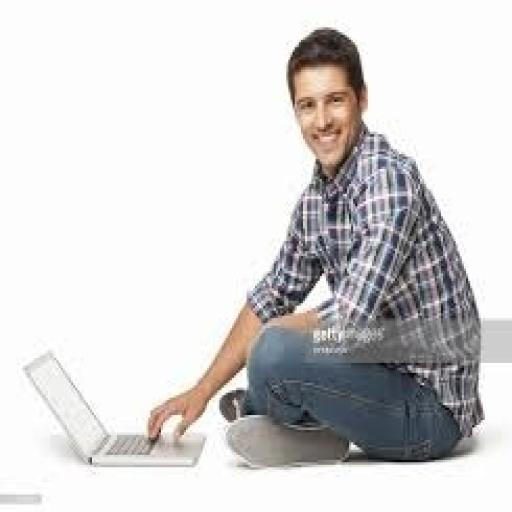using_laptop: (19, 345, 207, 470)
